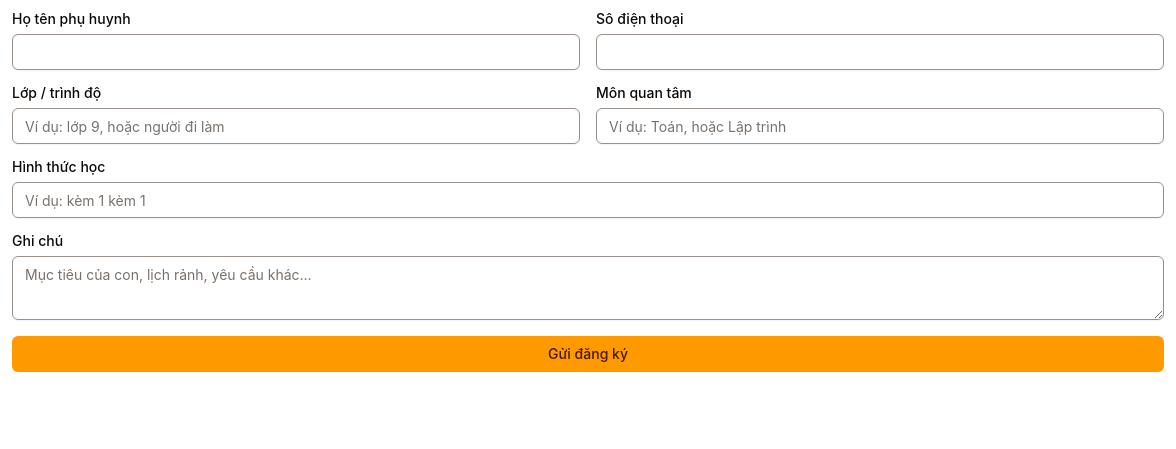
it: ConsultationForm › shows the success message after a successful submission
In the field labelled "Họ tên phụ huynh": {"x": 296, "y": 52} [12,34,580,70], type "Nguyễn Văn A"
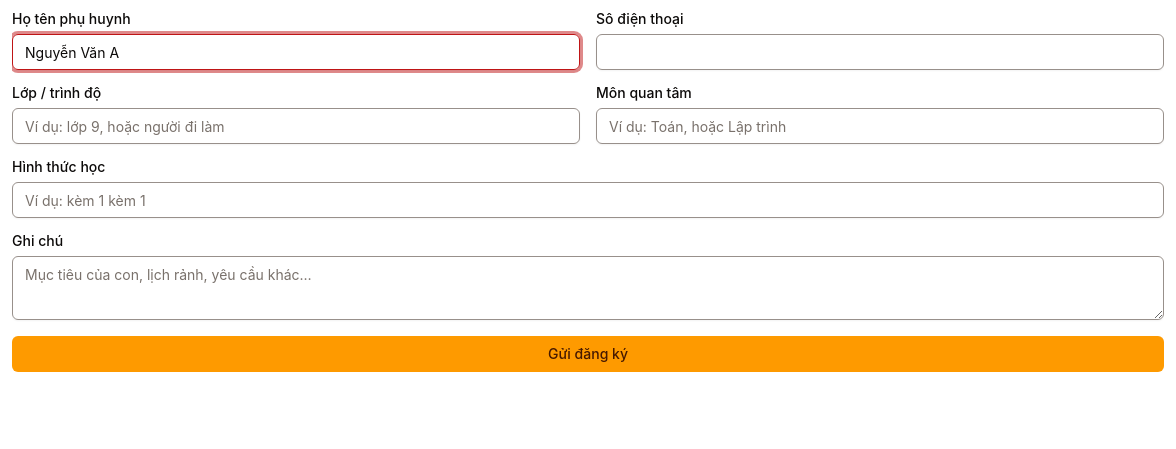
In the field labelled "Số điện thoại": {"x": 880, "y": 52} [596,34,1164,70], type "0912345678"
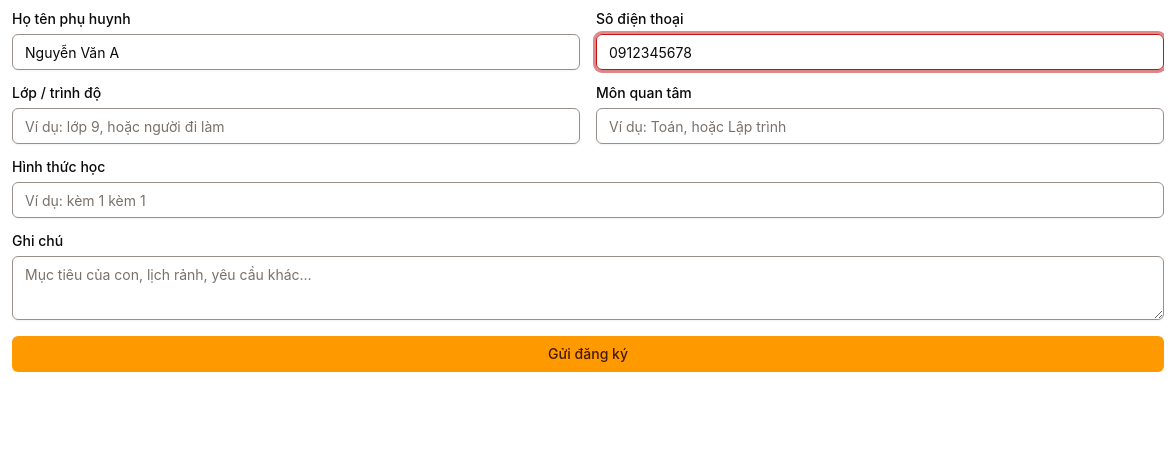
In the field labelled "Lớp / trình độ": {"x": 296, "y": 126} [12,108,580,144], type "9"
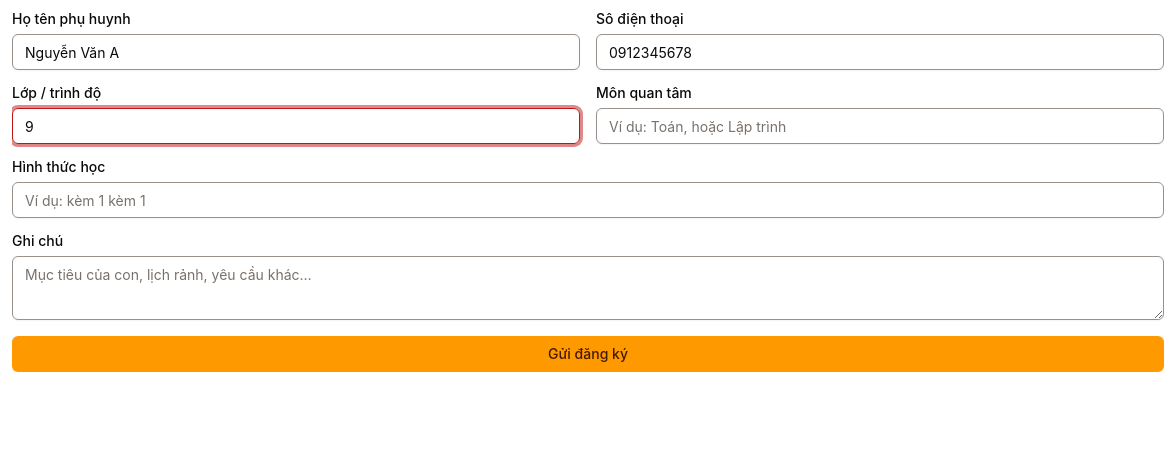
In the field labelled "Môn quan tâm": {"x": 880, "y": 126} [596,108,1164,144], type "Toán"
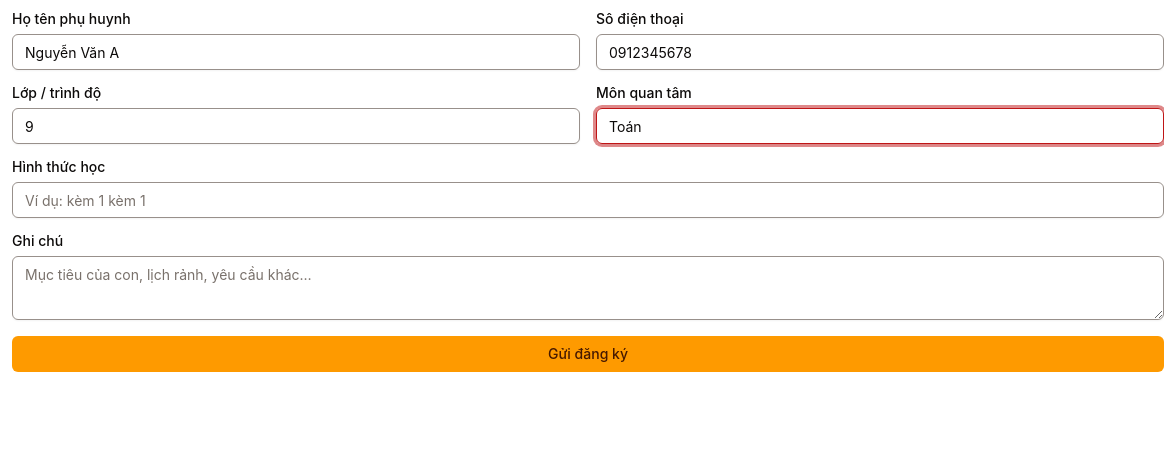
In the field labelled "Hình thức học": {"x": 588, "y": 200} [12,182,1164,218], type "1 kèm 1"
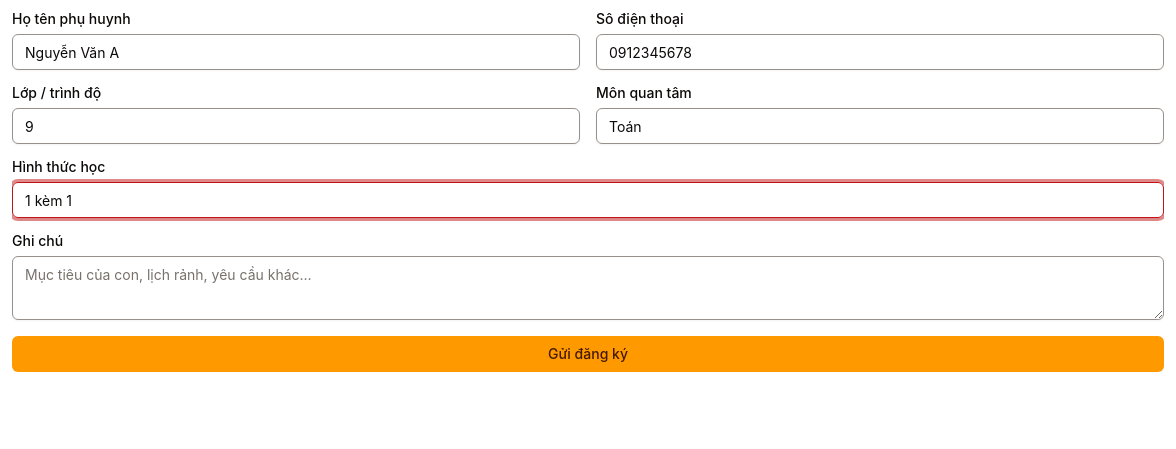
Click the button "Gửi đăng ký": {"x": 588, "y": 354} [12,336,1164,372]
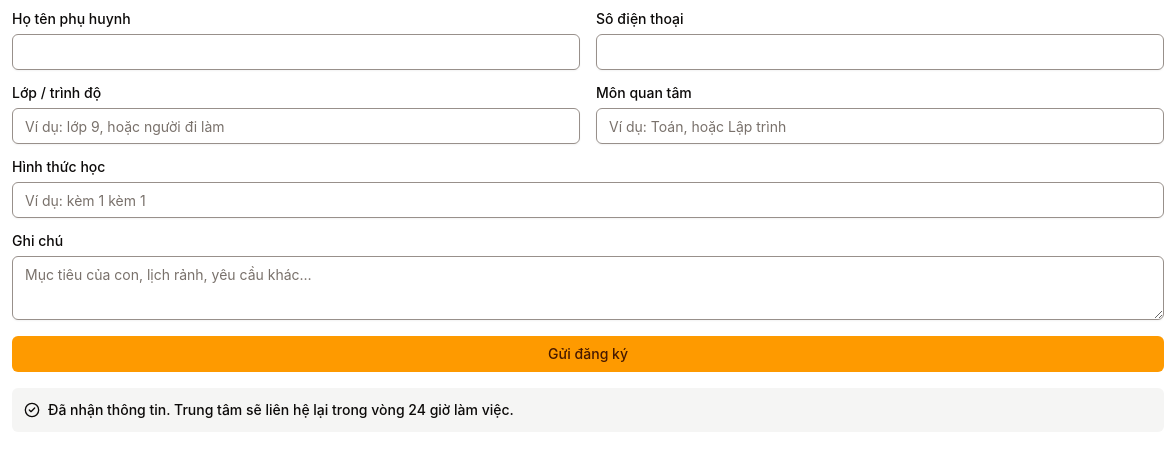
expect the message shows "Đã nhận thông tin": met, box [48,401,514,418]
